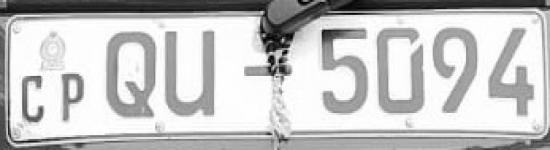-: (234, 56, 298, 85)
0: (372, 23, 429, 119)
4: (480, 23, 540, 122)
5: (317, 22, 374, 124)
9: (428, 22, 484, 123)
C: (13, 72, 49, 126)
P: (57, 70, 88, 126)
Q: (104, 23, 160, 127)
U: (159, 21, 221, 125)
